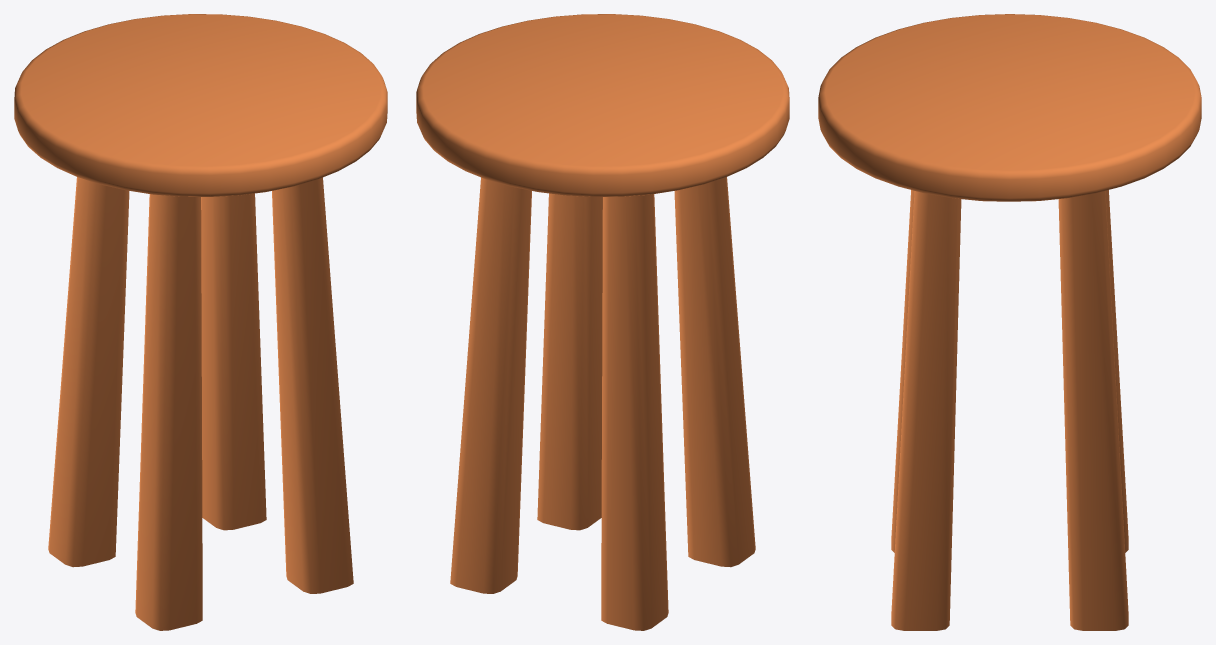
Rendered from Table_Small_Round.fbx.
3 renders of one model, left to right at view 1: azimuth 30°, elevation 25°; view 2: azimuth 150°, elevation 25°; view 3: azimuth 270°, elevation 25°, orthographic. The views are drawn at different scales.
Parts seen in each view (by area): view 1: Table_Small_Round; view 2: Table_Small_Round; view 3: Table_Small_Round.
Boxes of the visible parts, box(x1,y1,x2,y2) form: Table_Small_Round: box(14, 14, 387, 630); Table_Small_Round: box(416, 14, 789, 630); Table_Small_Round: box(818, 14, 1201, 630).
Bounding box in the file's own units: 0.9218 × 0.9218 × 1.3.
